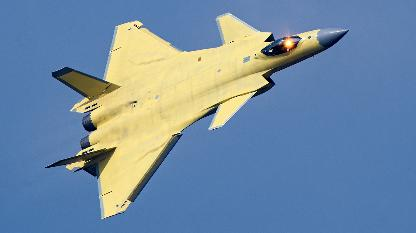F4: (44, 12, 350, 219)
